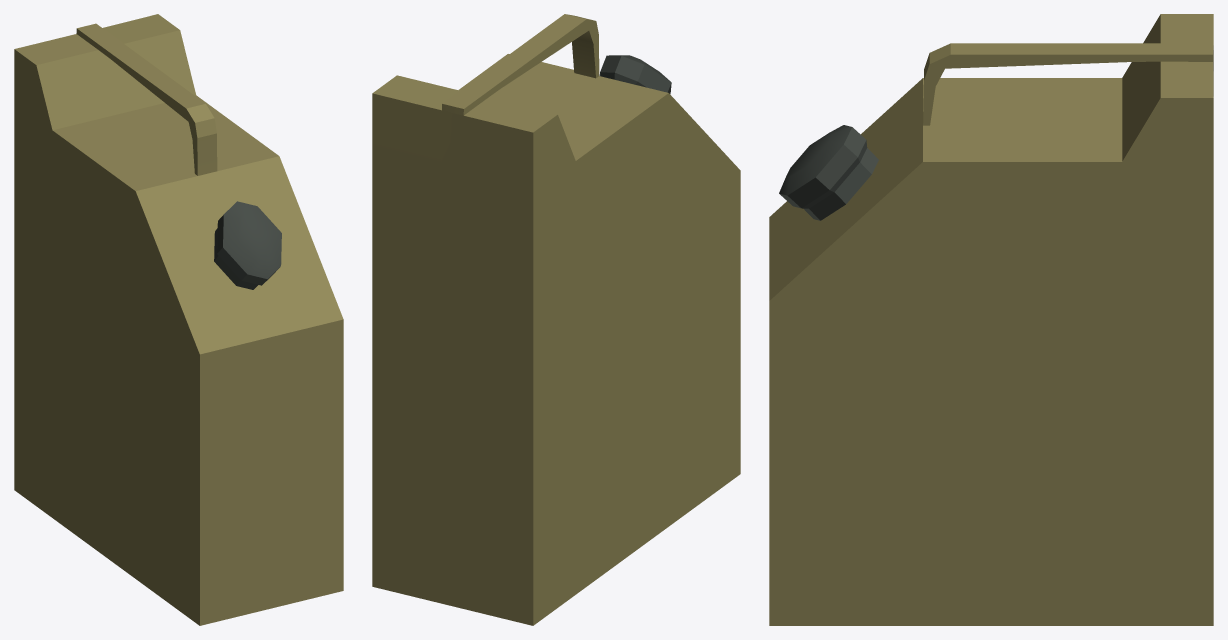
File: GasCan.fbx
The picture shows the model from 3 angles, left to right: view 1: azimuth 30°, elevation 25°; view 2: azimuth 150°, elevation 25°; view 3: azimuth 270°, elevation 25°; orthographic projection. The views are drawn at different scales.
Visible parts, largest first — view 1: pCube5; view 2: pCube5; view 3: pCube5.
Boxes of the visible parts, x1=… form: pCube5: x1=14, y1=14, x2=343, y2=625; pCube5: x1=372, y1=14, x2=740, y2=625; pCube5: x1=769, y1=14, x2=1213, y2=625.
Size of the model in its own units: 11.91 by 35.36 by 26.6.
